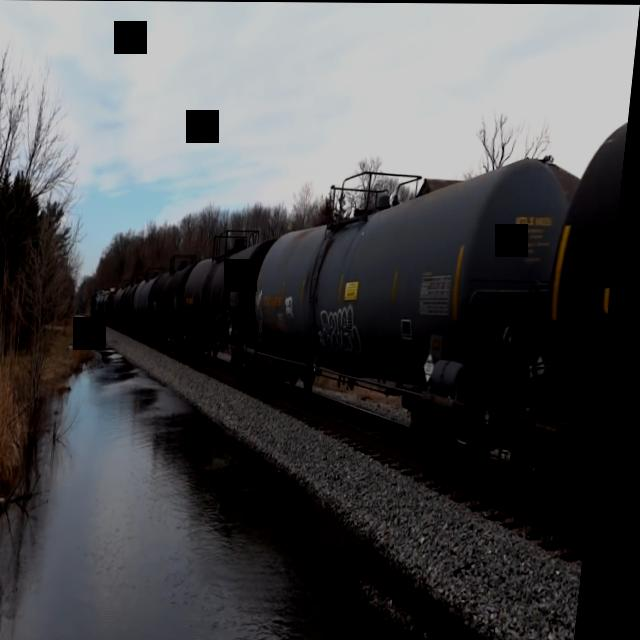tank: (240, 141, 587, 479), (500, 60, 635, 554), (177, 225, 281, 376), (152, 257, 198, 348)
